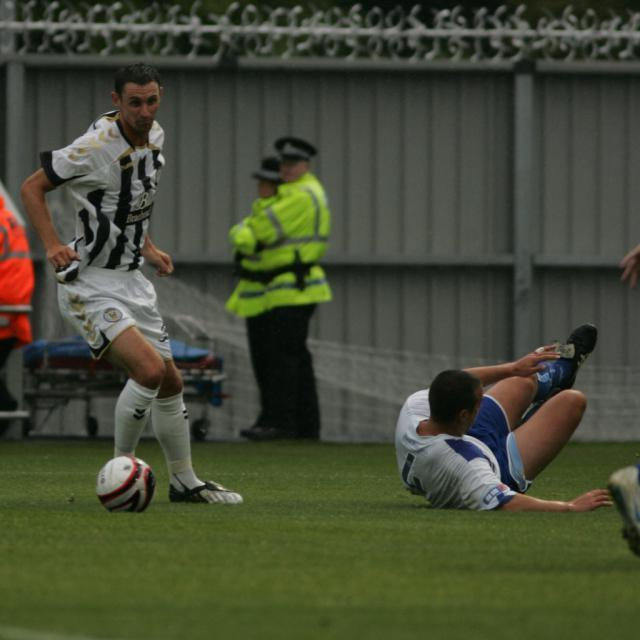football: (85, 442, 176, 518)
